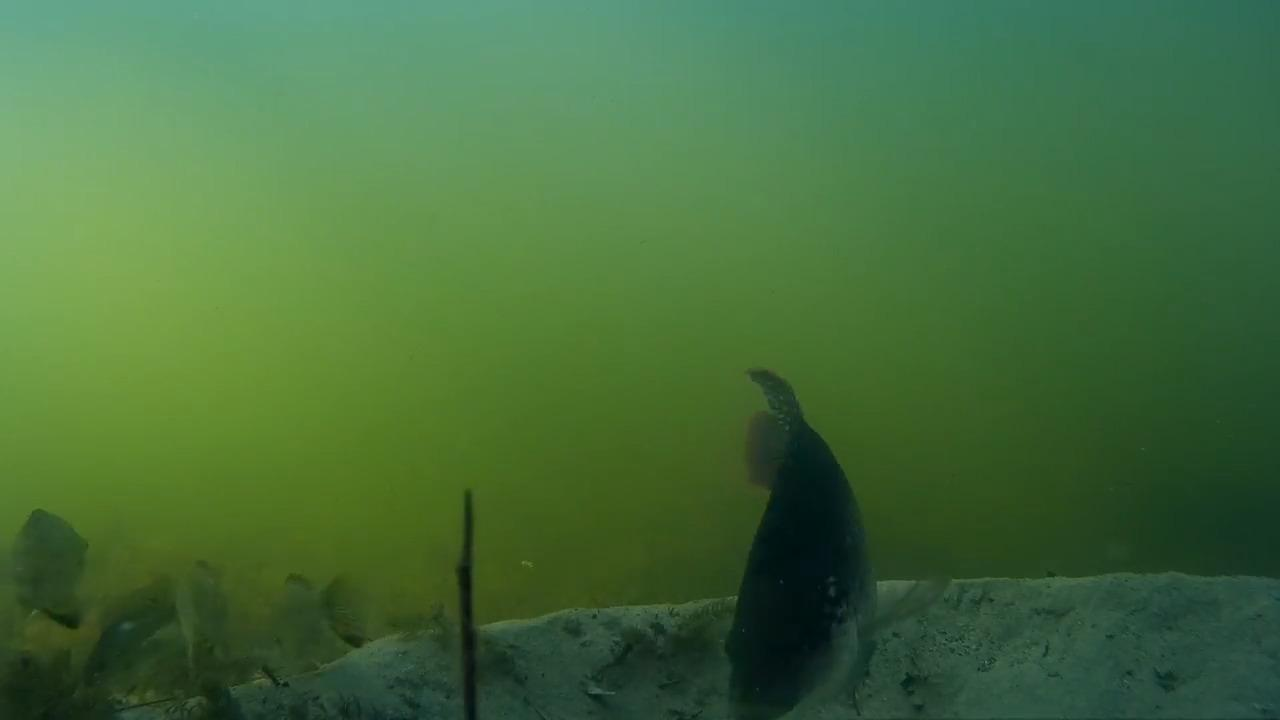Tilapia: (685, 352, 918, 720), (0, 509, 109, 638)
